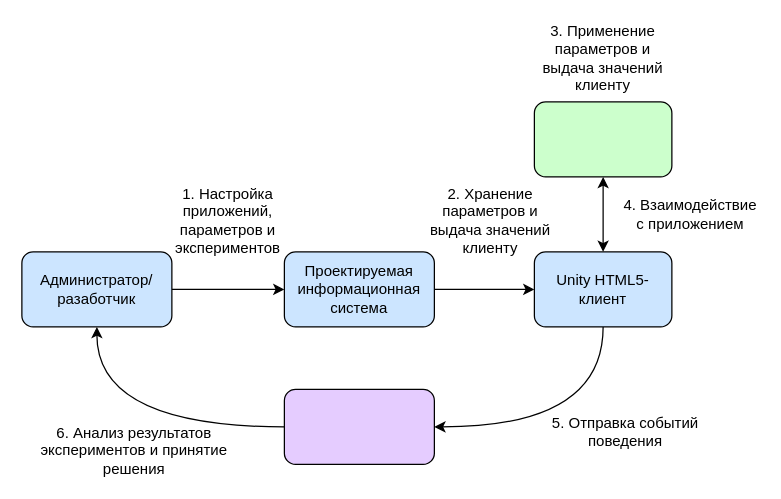
Image size: 781x499. Some labels were removed from this diagram. The box of each missing label's shape, as (x1, y1, x2, y2) in pixels:
Конечный пользователь: (533, 101, 672, 177)
Яндекс Метрика: (283, 388, 434, 464)
